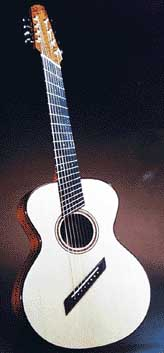guitar: (10, 4, 153, 350)
